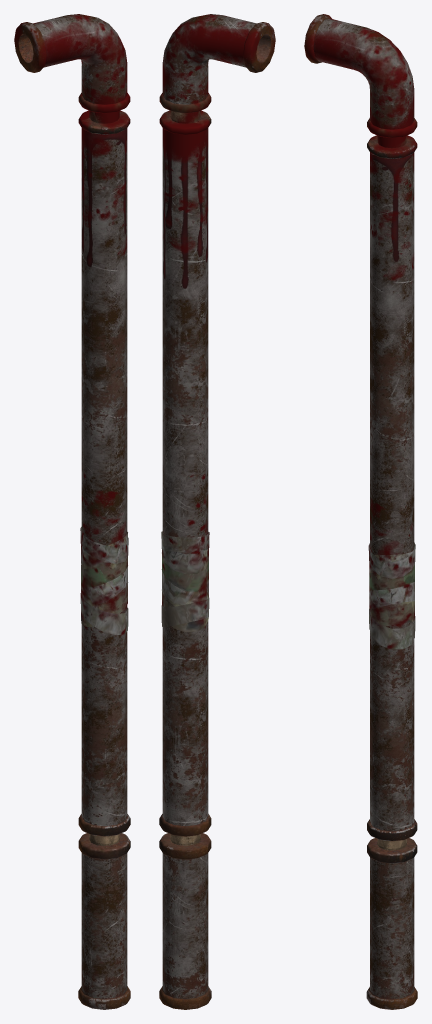
File: bloody_lead_pipe.glb
The picture shows the model from 3 angles, left to right: view 1: azimuth 30°, elevation 25°; view 2: azimuth 150°, elevation 25°; view 3: azimuth 330°, elevation 25°; orthographic projection. The views are drawn at different scales.
Visible parts, largest first — view 1: Pipe, Tape; view 2: Pipe, Tape; view 3: Pipe, Tape.
Boxes of the visible parts, <box> form: Pipe: <box>14,14,130,1009</box>; Tape: <box>80,527,128,635</box>; Pipe: <box>159,14,275,1009</box>; Tape: <box>161,531,209,632</box>; Pipe: <box>304,14,417,1009</box>; Tape: <box>368,542,415,649</box>.
Size of the model in its own units: 6.19 by 58.07 by 2.78.
Materials: 1 (1 with a texture image).
